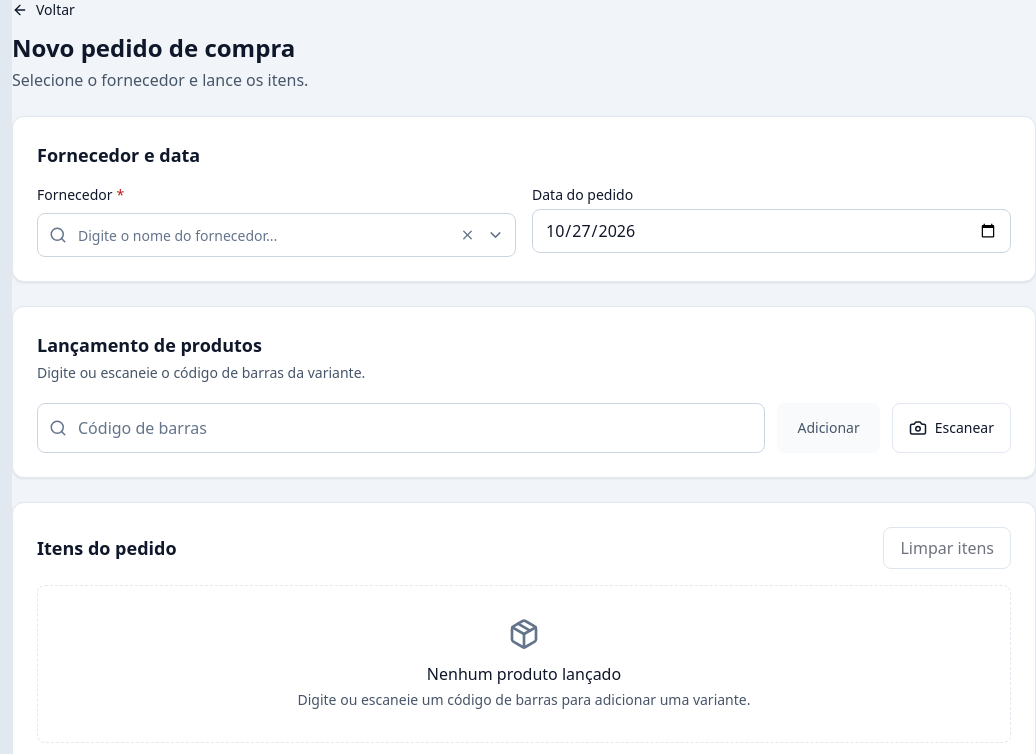
Test: PurchaseCreatePage › bloqueia envio com total zero ou item negativo
Type "Acm" into the dropdown with placeholder "Digite o nome do fornecedor..." at (276, 235), box [37,213,516,257]
(page scrolled)
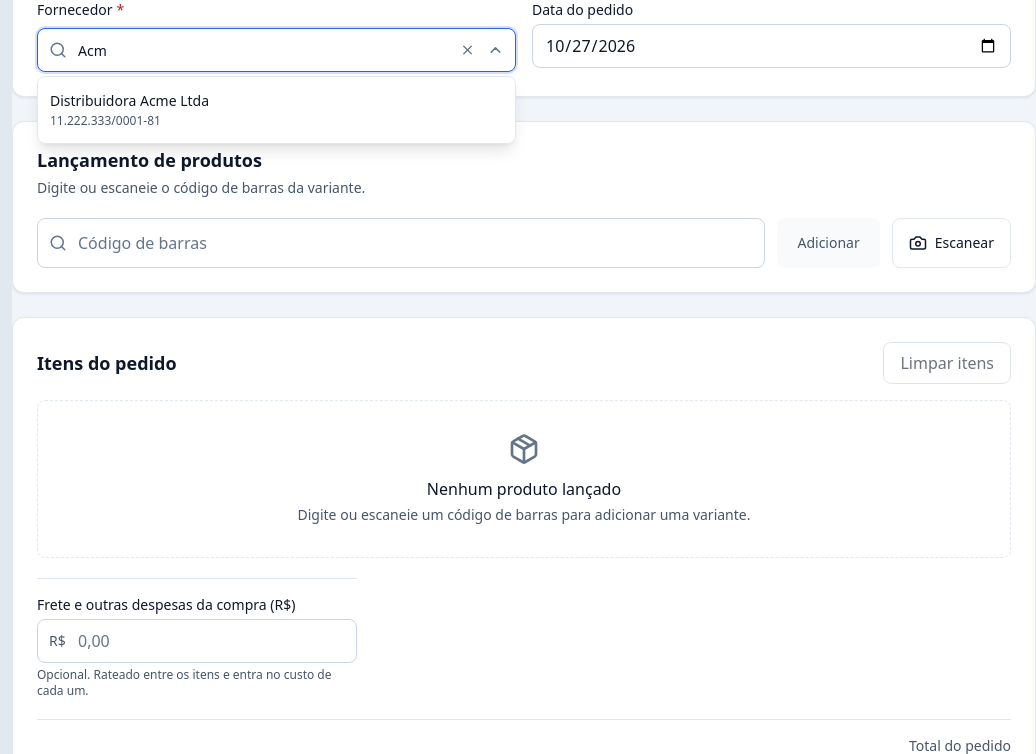
Click the text "Distribuidora Acme Ltda" at (130, 101), box [50,91,209,111]
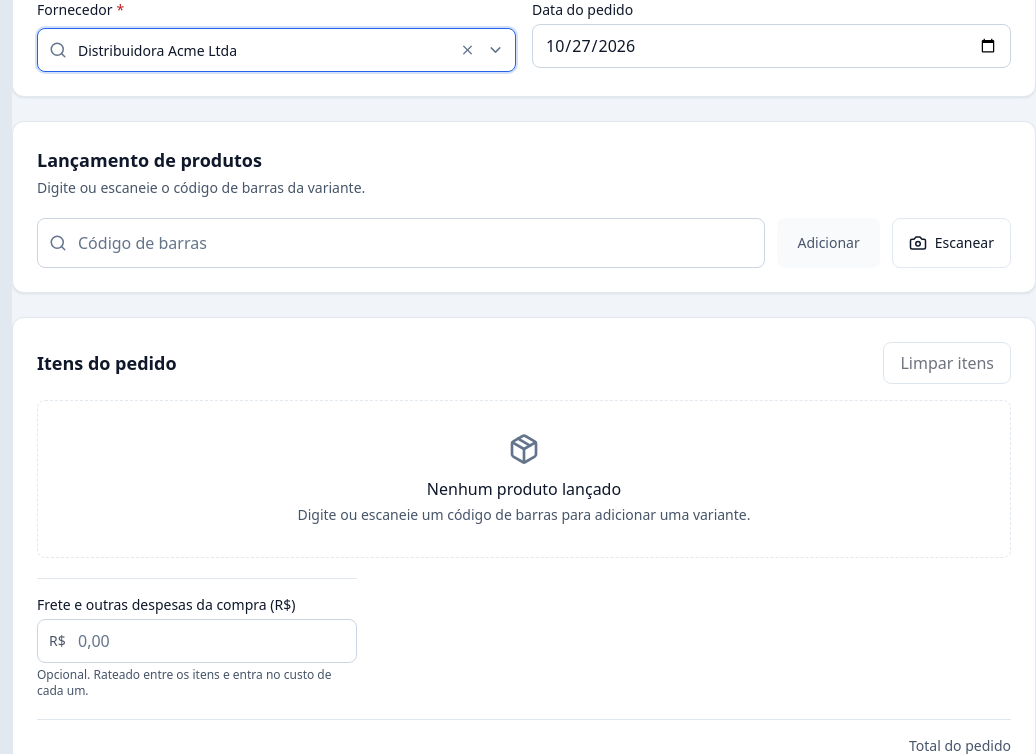
Type "111" into the field named "Código de barras do produto" at (401, 243), box [37,218,766,268]
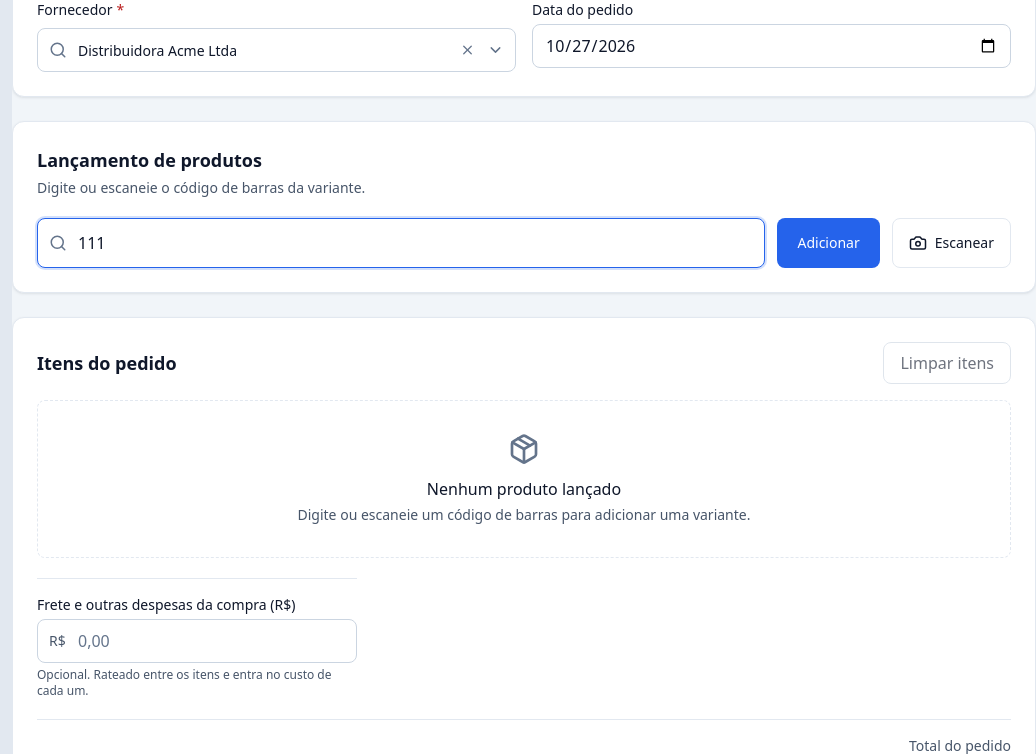
Click the button "Adicionar" at (829, 243), box [778,218,880,268]
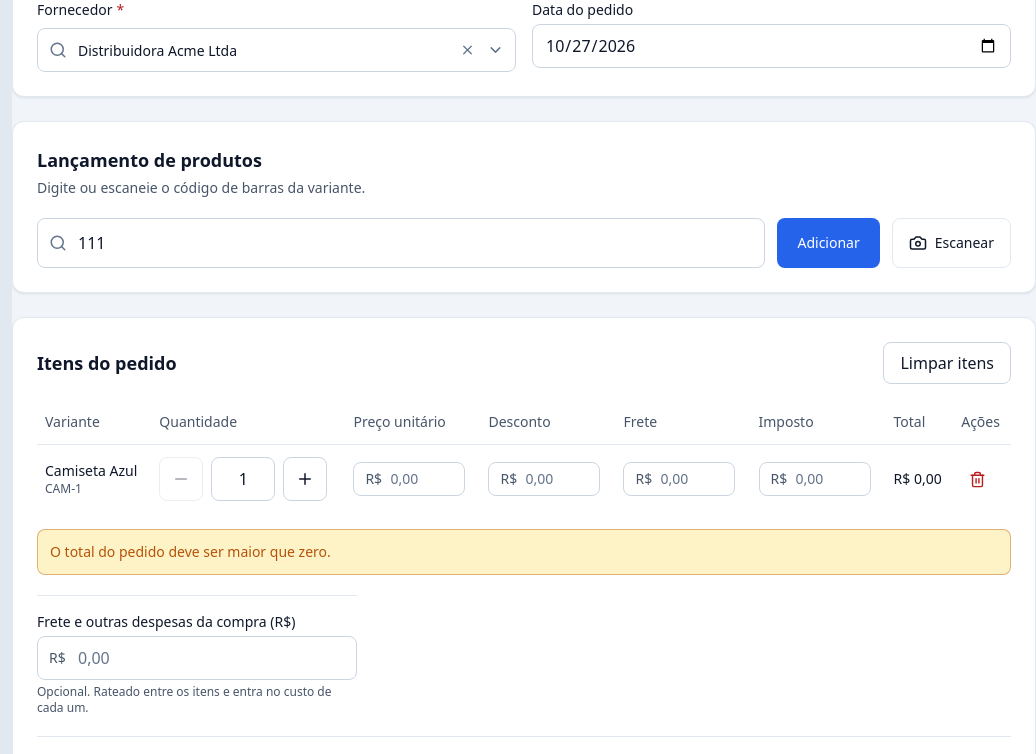
Result: the field named "Quantidade de Camiseta Azul" is shown at [211,457,275,501]
Result: the message shows "maior que zero" at [50,542,331,561]
Type "5" into the field named "Preço unitário de Camiseta Azul" at (409, 479), box [353,462,465,496]
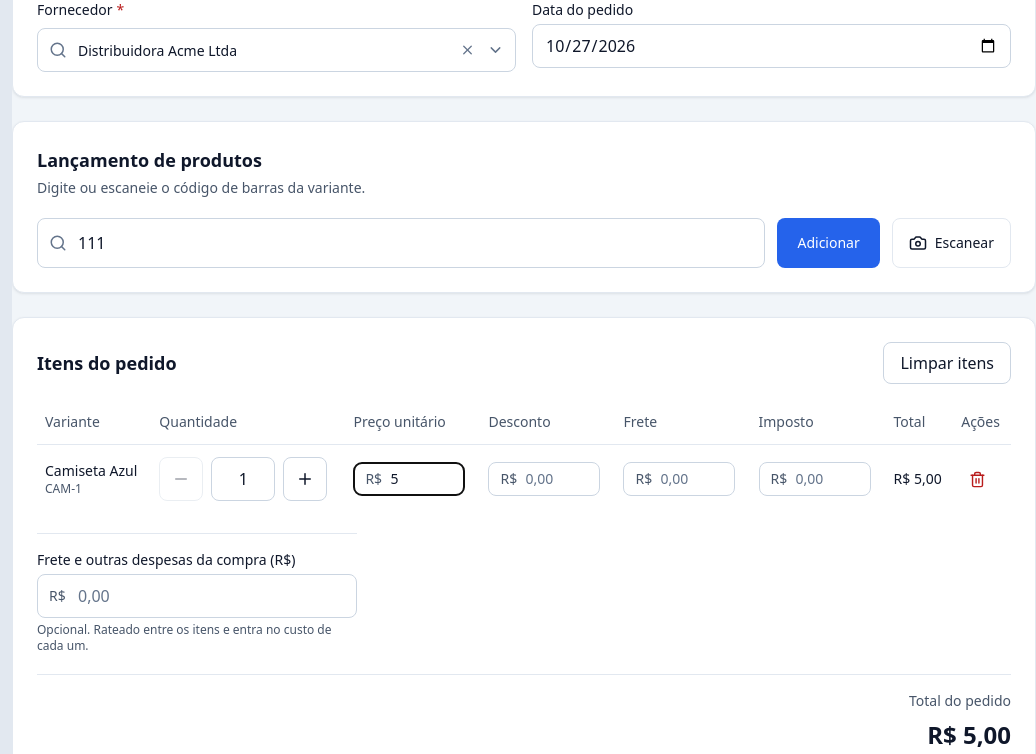
Type "9" into the field named "Desconto de Camiseta Azul" at (544, 479), box [488,462,600,496]
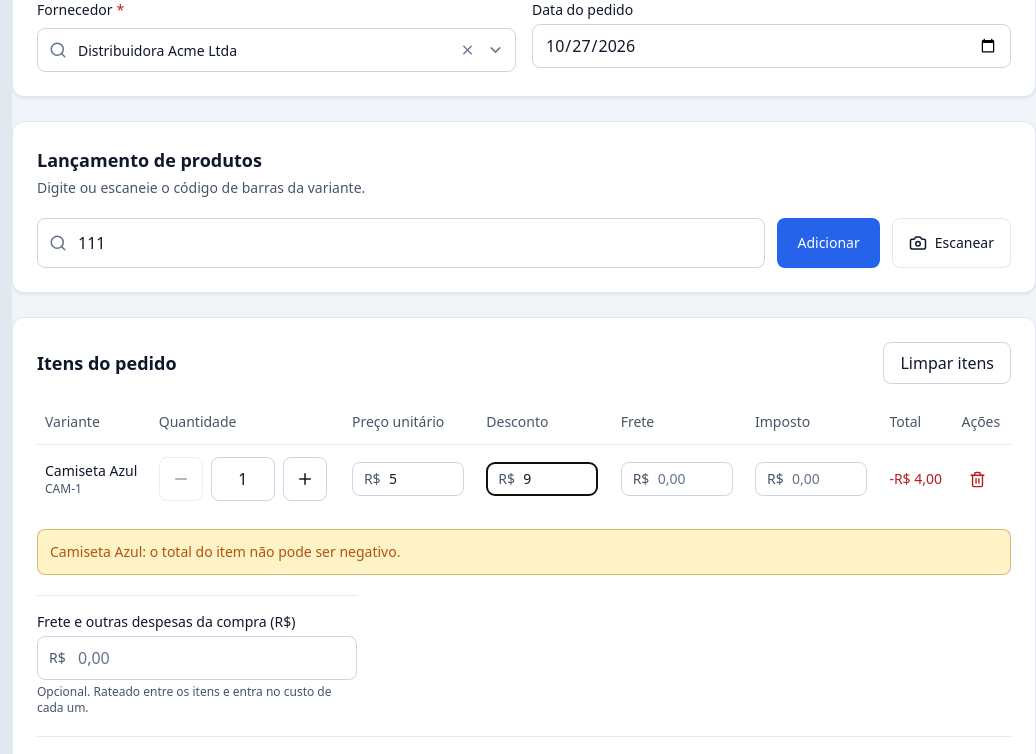
Result: the message shows "negativo" at [50,542,400,561]
